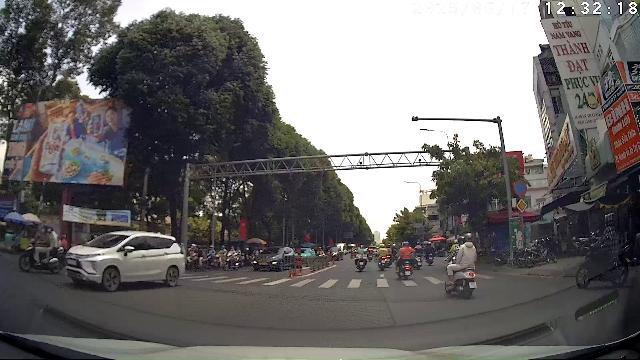131a-cam-do-xe: (513, 180, 527, 196)
